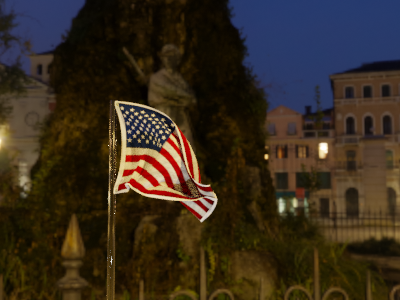America flag: (115, 100, 220, 223)
